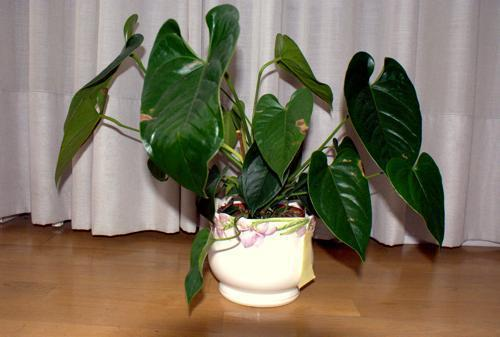Matera: (65, 25, 468, 313)
